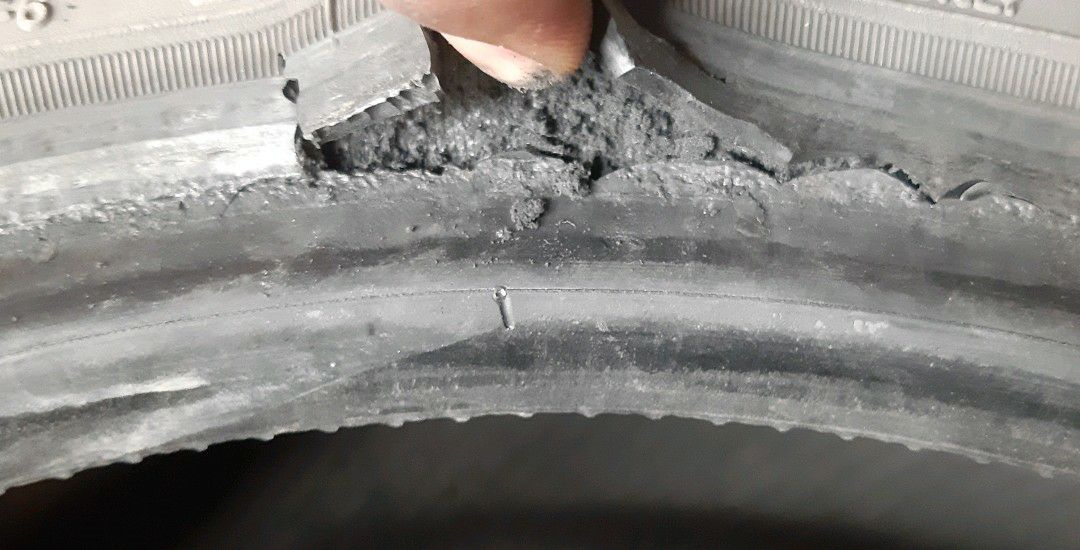bead_damage: (0, 3, 1076, 271)
